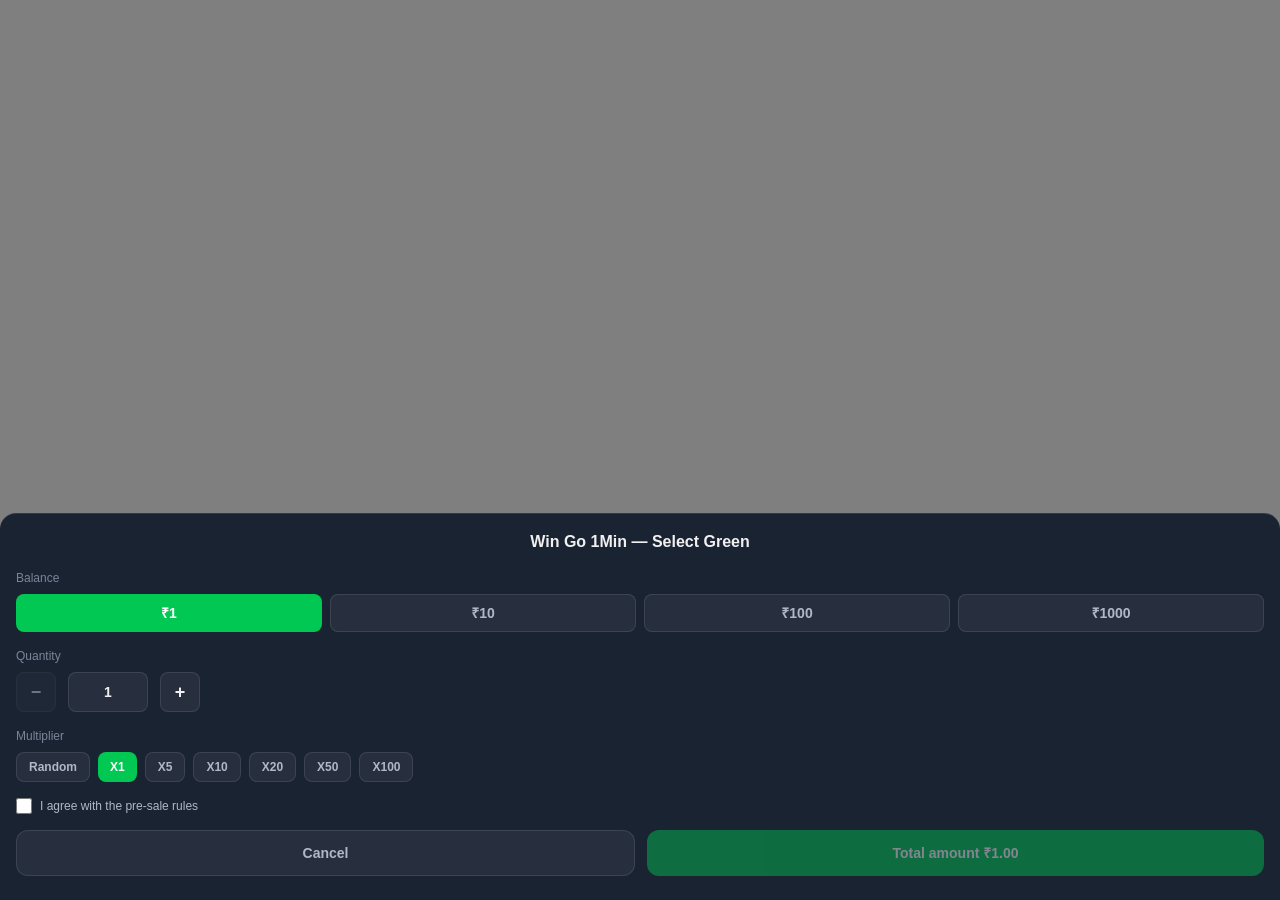
BetConfirmationSheet › updates total amount when preset changes
This screenshot has width=1280, height=900.
Expected: the button with test id "confirm-button" reads "Total amount ₹1.00", [647,830,1264,876]
Click the radio button with test id "preset-100": {"x": 797, "y": 613} [644,594,950,632]
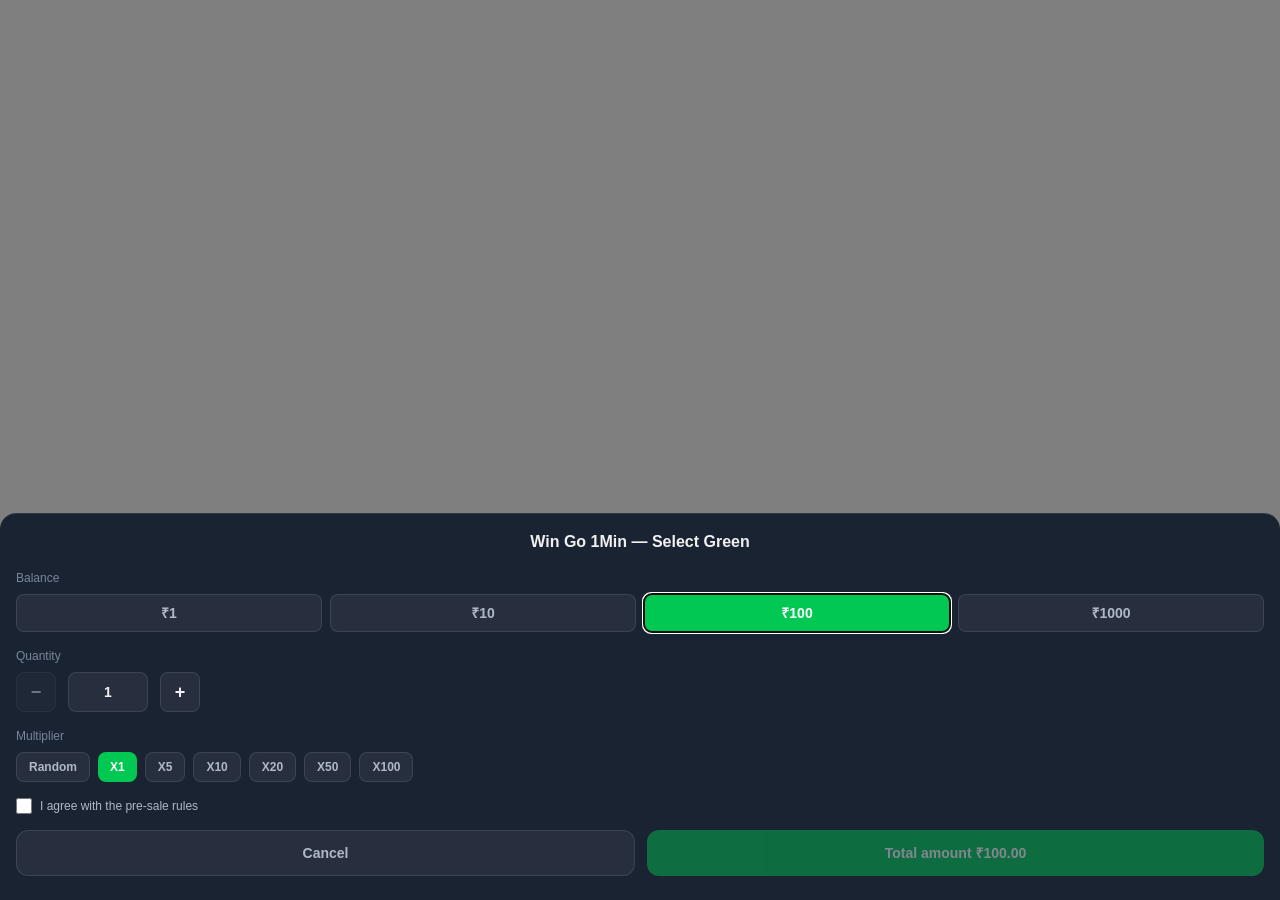
Expected: the button with test id "confirm-button" reads "Total amount ₹100.00", [647,830,1264,876]
